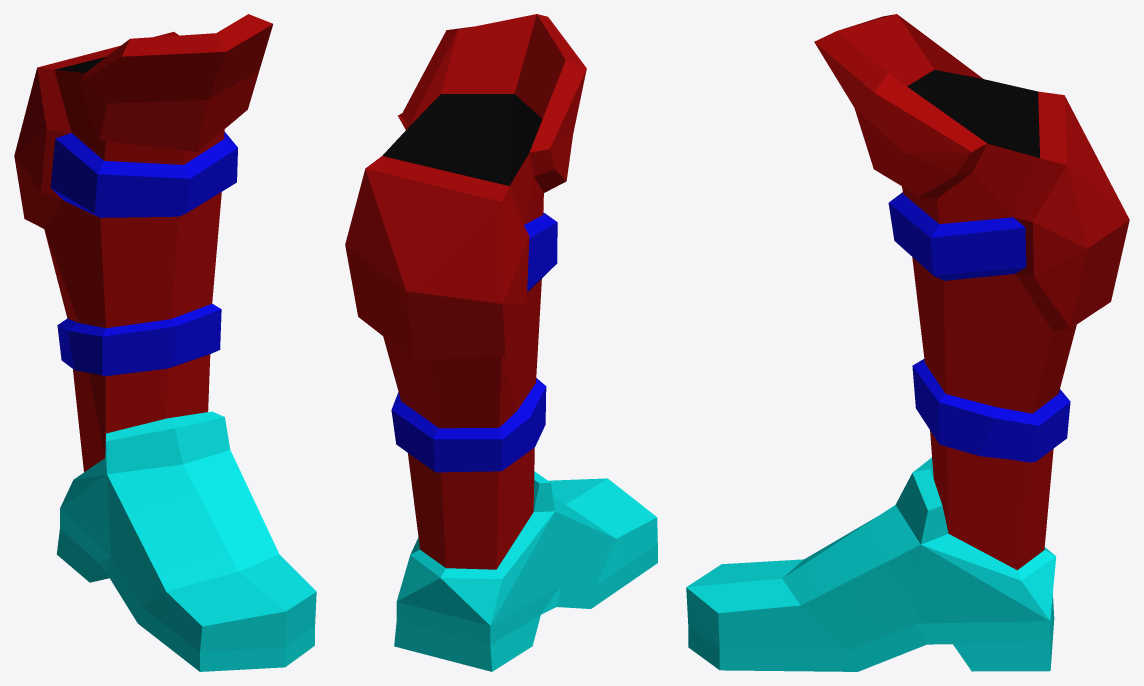
File: Chr_LegLeft_Male_Static_10.fbx
3 views of the same model, side by side, from view 1: azimuth 30°, elevation 25°; view 2: azimuth 150°, elevation 25°; view 3: azimuth 270°, elevation 25° (orthographic). The views are drawn at different scales.
Visible parts, largest first — view 1: Chr_LegLeft_Male_10; view 2: Chr_LegLeft_Male_10; view 3: Chr_LegLeft_Male_10.
Boxes of the visible parts, bbox=[...] form: Chr_LegLeft_Male_10: bbox=[14, 14, 316, 671]; Chr_LegLeft_Male_10: bbox=[345, 14, 657, 671]; Chr_LegLeft_Male_10: bbox=[686, 14, 1129, 671].
Bounding box in the file's own units: 13.26 × 45.46 × 29.62.
